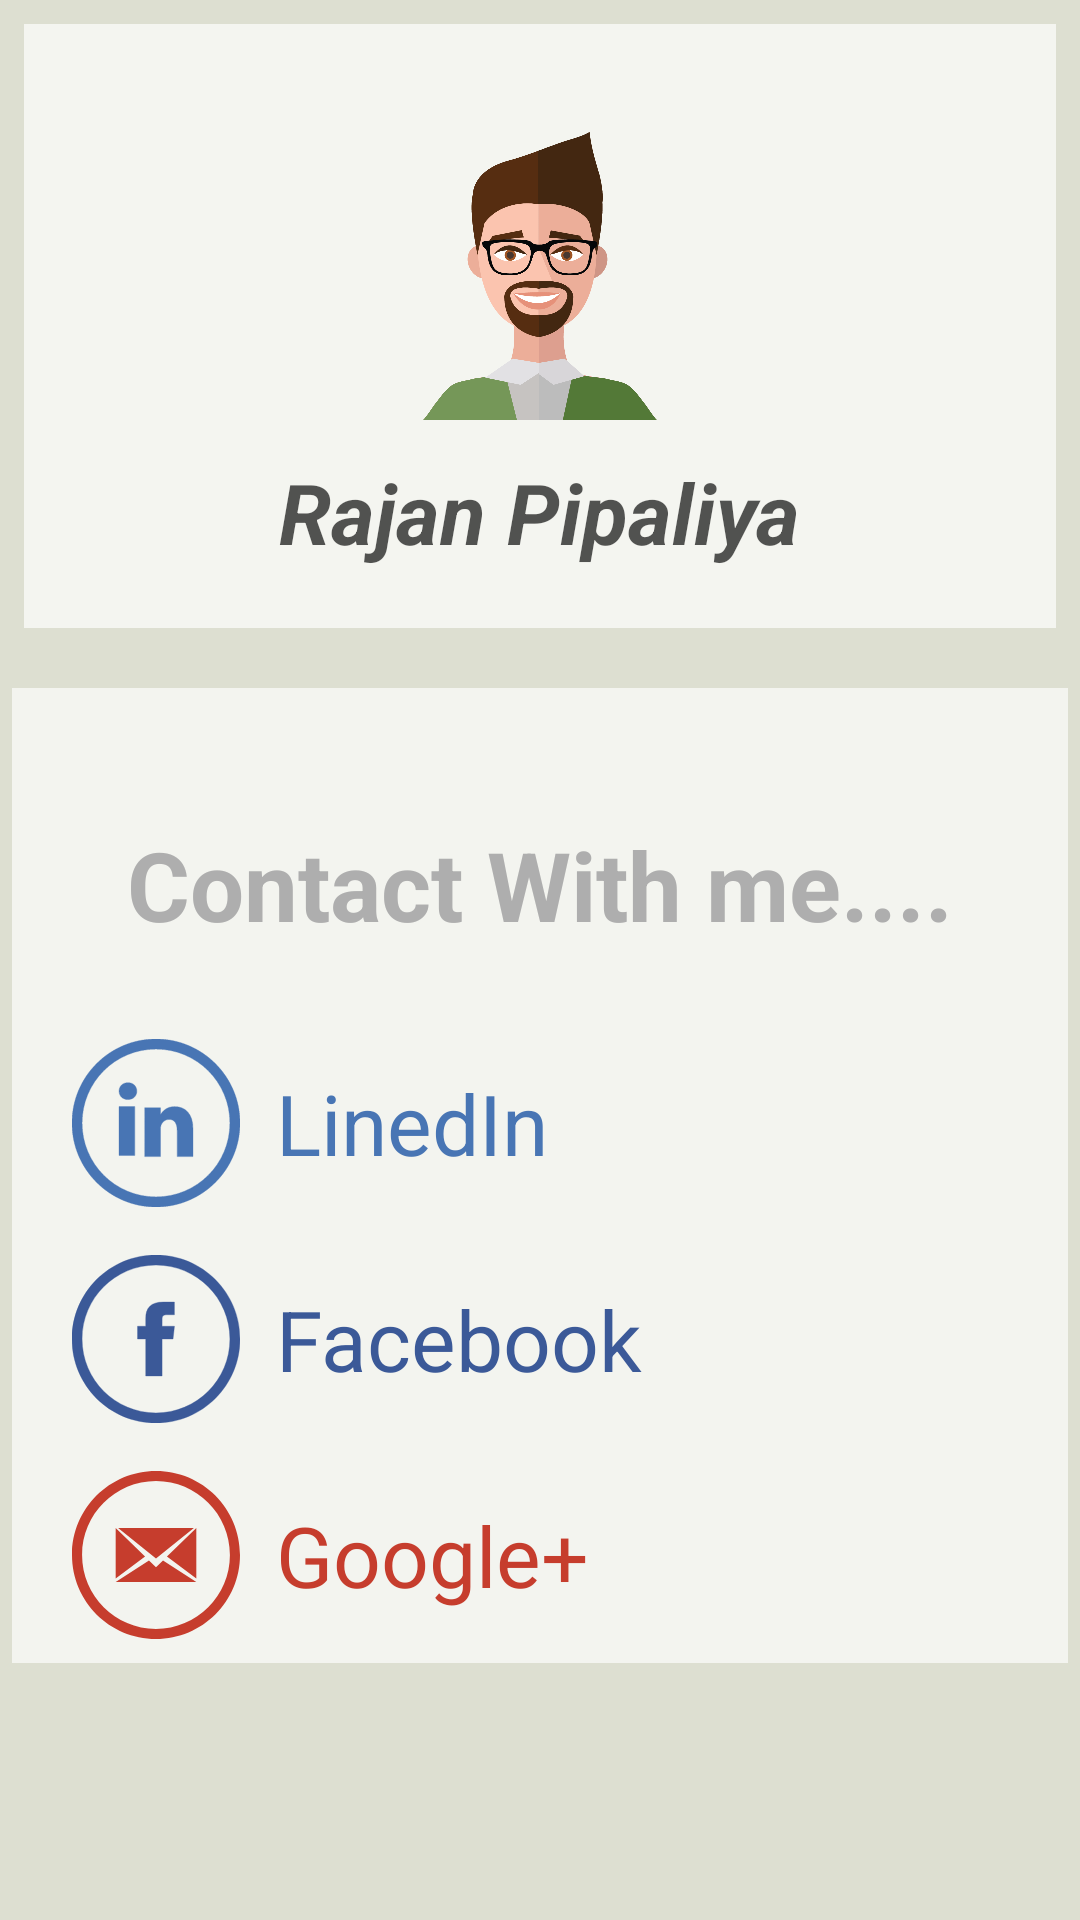

Screen size 1080w x 1920h. Icon name, then its center in pixels as point (x, y):
if mail: point (156, 1555)
